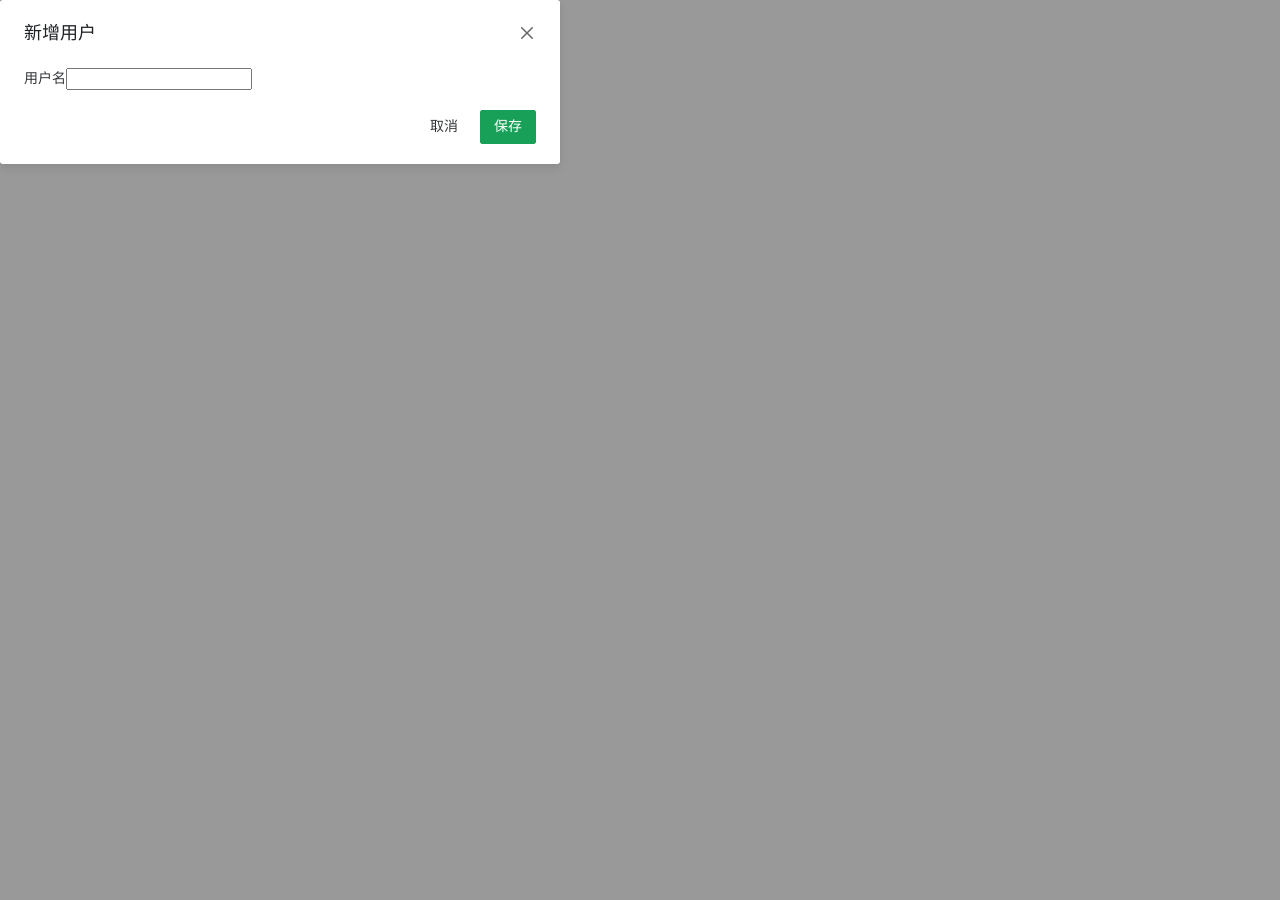
Scenario: FormDialog 的校验提示时机 › 点了保存才把问题说出来，并且不提交
The width and height of the screenshot is (1280, 900).
Click the button "保存". click: (508, 127)
box: [480,110,536,144]
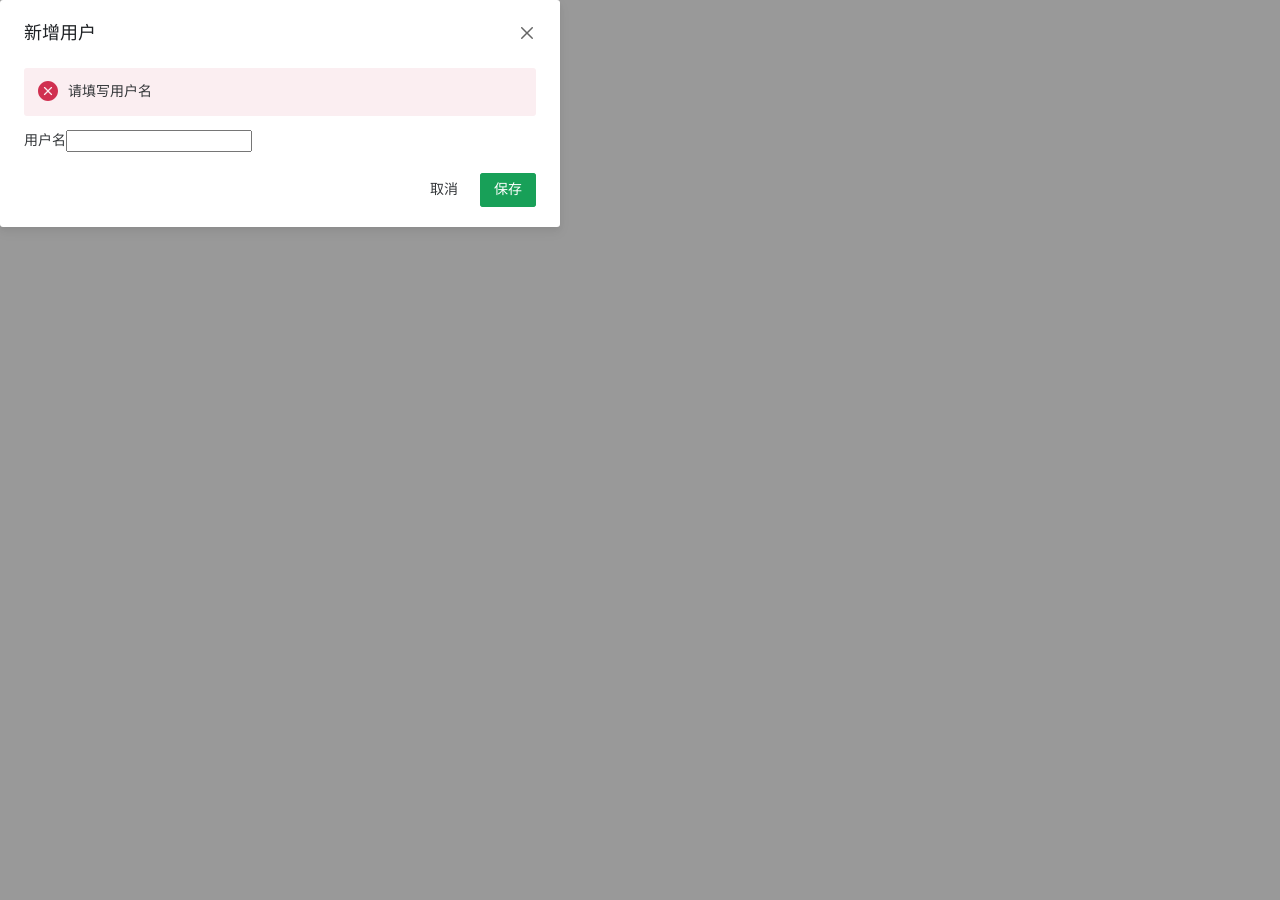
Expected: the message with class "form-dialog__error" reads "请填写用户名", [68,84,152,99]
